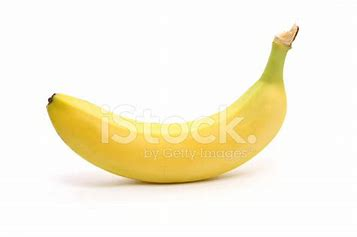fruit_banana: (42, 21, 301, 188)
